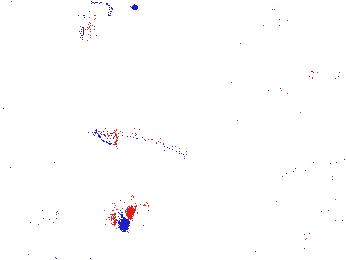X-ray fish: (108, 186, 144, 232)
glassfish: (83, 124, 203, 170)
red belly glassfish: (307, 64, 346, 79), (271, 5, 294, 26)
redtail glassfish: (73, 1, 112, 42), (265, 74, 329, 95)
